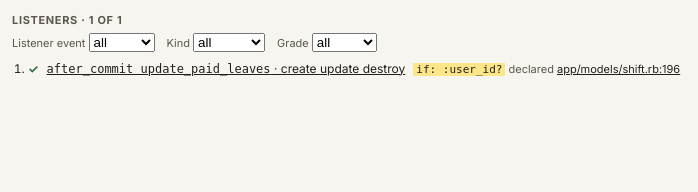
Scenario: ListenersSection › toggles a row and shows its effects when open
Step 1. Click the button "after_commit update_paid_leaves · create update destroy" → (226,68), box [47, 60, 405, 78]
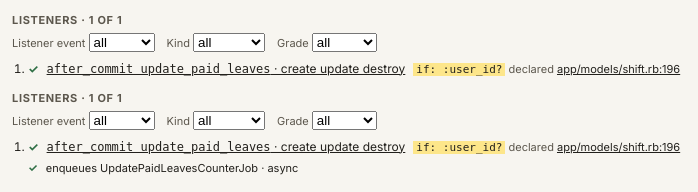
Check: the text "enqueues UpdatePaidLeavesCounterJob · async" is shown, box [46, 161, 298, 175]
